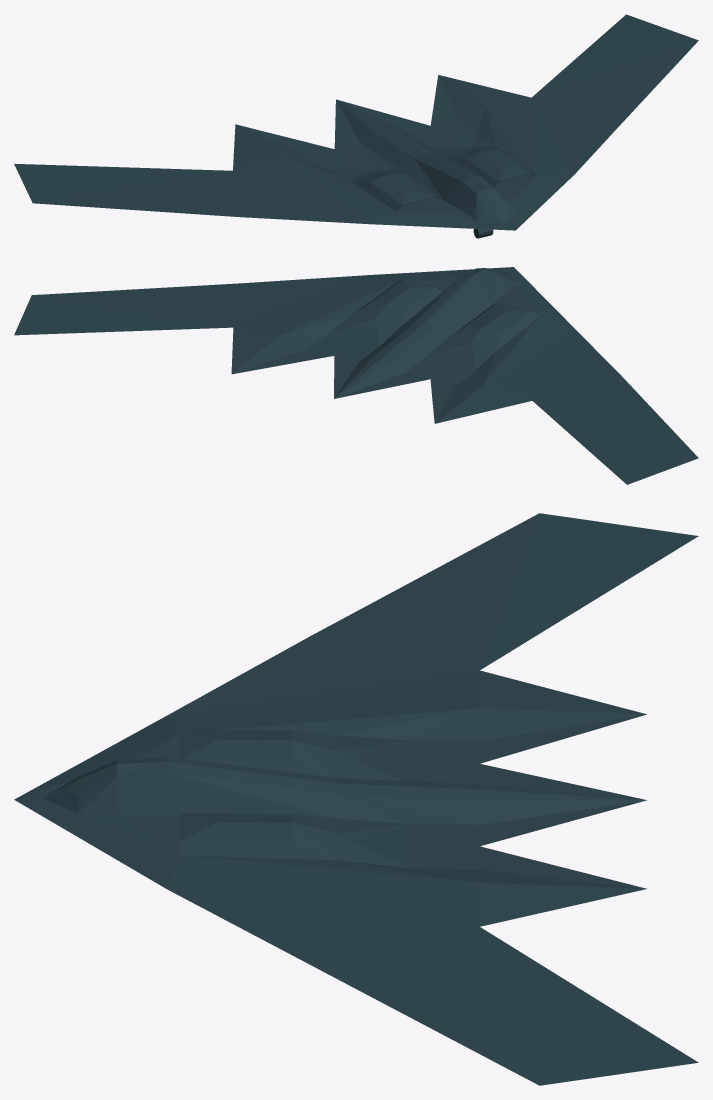
3 views of the same model, one above another, from view 1: azimuth 30°, elevation 25°; view 2: azimuth 150°, elevation 25°; view 3: azimuth 270°, elevation 25° (orthographic). The views are drawn at different scales.
Parts seen in each view (by area): view 1: Body_lambert1_0; view 2: Body_lambert1_0; view 3: Body_lambert1_0.
Part boxes in pixels (x1,y1,x2,y2): Body_lambert1_0: (14, 14, 698, 238); Body_lambert1_0: (14, 267, 698, 484); Body_lambert1_0: (14, 513, 698, 1085).
Size of the model in its own units: 52.07 by 3.81 by 26.3.
